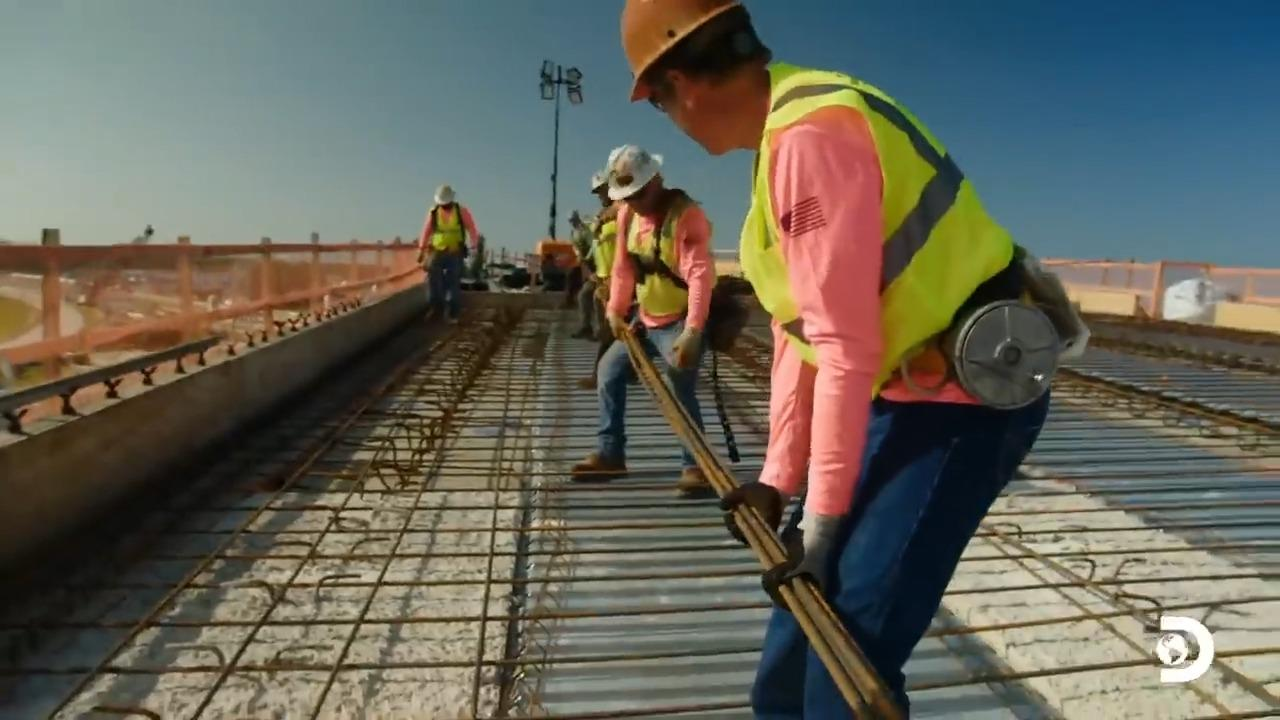Gloves: (767, 532, 830, 604), (715, 489, 781, 553), (666, 323, 704, 370)
Helmet: (619, 0, 740, 102), (603, 143, 662, 201), (433, 183, 456, 205)
Person: (578, 135, 724, 484), (416, 183, 478, 324)
Safety Boot: (618, 1, 1090, 718), (580, 456, 622, 484), (678, 463, 706, 495)
Safety Vest: (800, 97, 986, 357), (625, 226, 695, 322), (436, 214, 467, 243)
